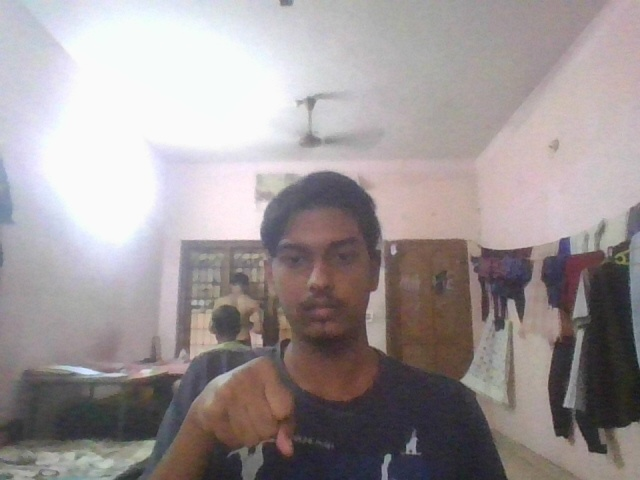yes: (186, 351, 301, 460)
